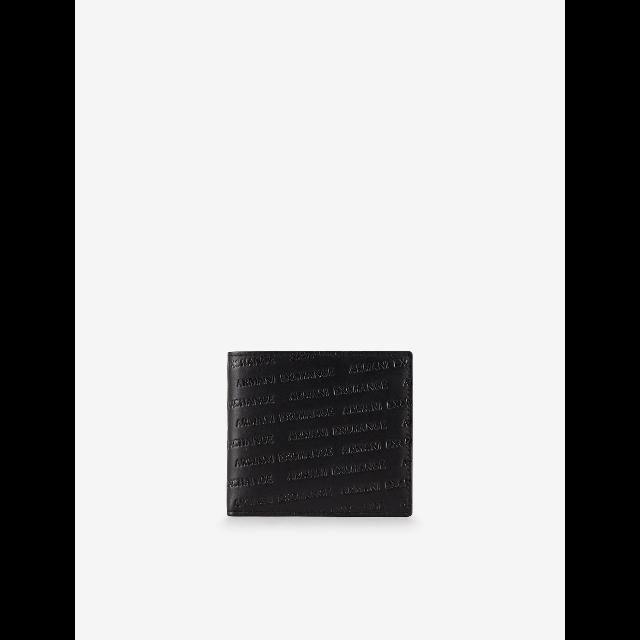Wallet: (222, 346, 414, 520)
